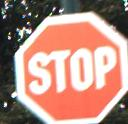Stop sign: (0, 0, 127, 123)
